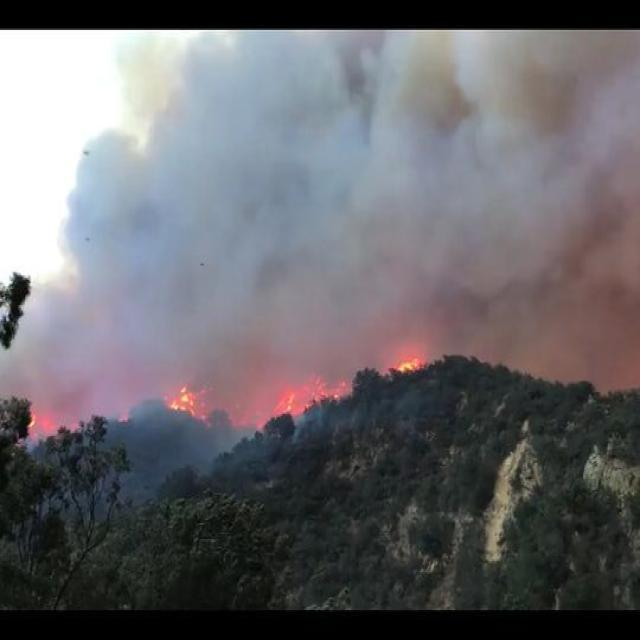Fire: (256, 357, 354, 422), (138, 363, 224, 422), (382, 348, 444, 396)
Smoke: (13, 36, 631, 433), (441, 81, 640, 407), (64, 112, 152, 427), (112, 434, 256, 496)
